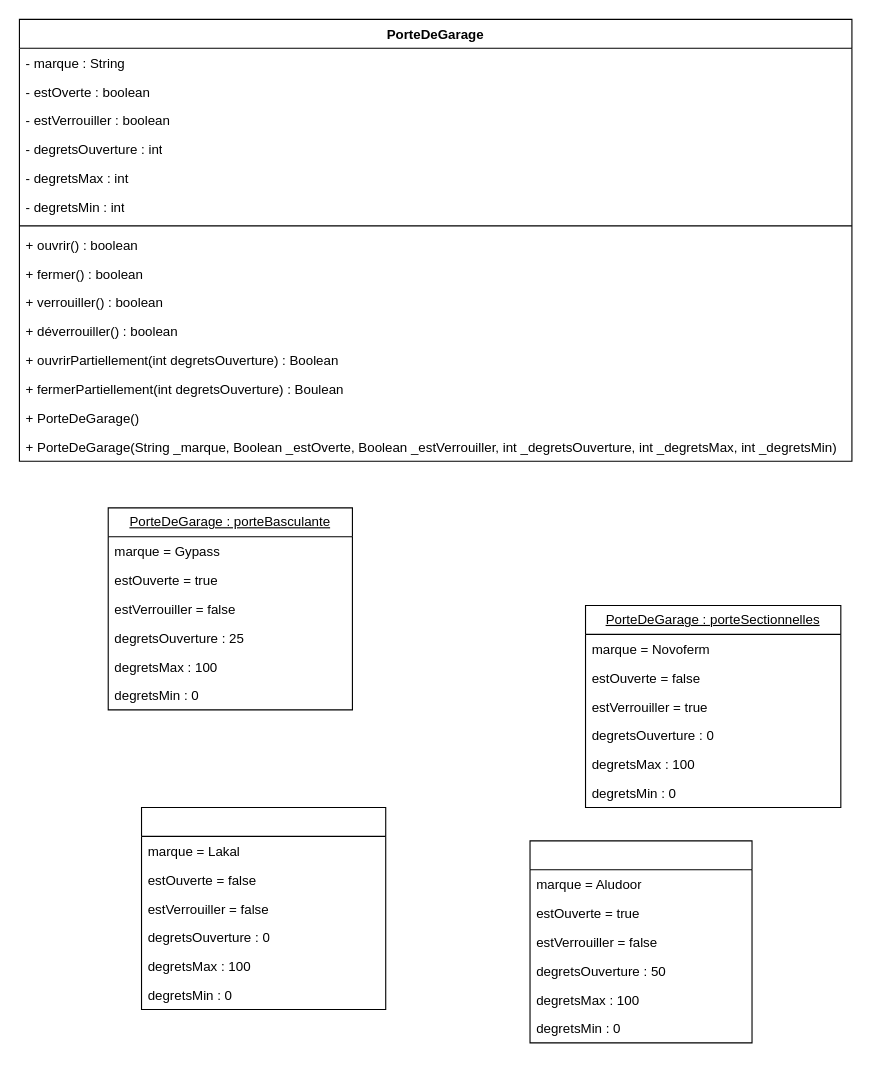
Image size: 871x1066. Some labels were removed from this diagram. The box of each missing label's shape, as (x1, y1, x2, y2) in pixels:
PorteDeGarage : porteEnroulables: (140, 806, 386, 1010)
PorteDeGarage : portePliantes: (529, 840, 752, 1043)
